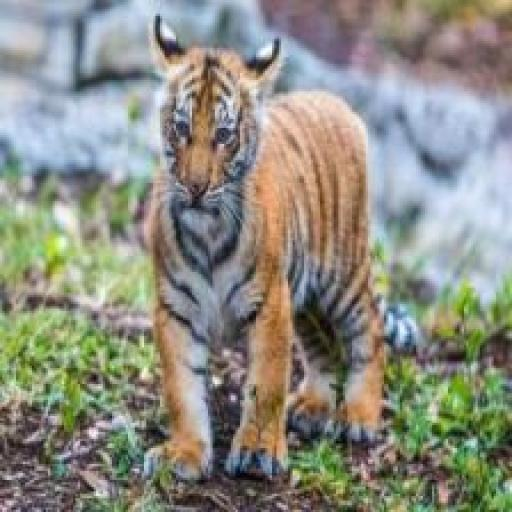Tiger: (138, 16, 388, 486)
